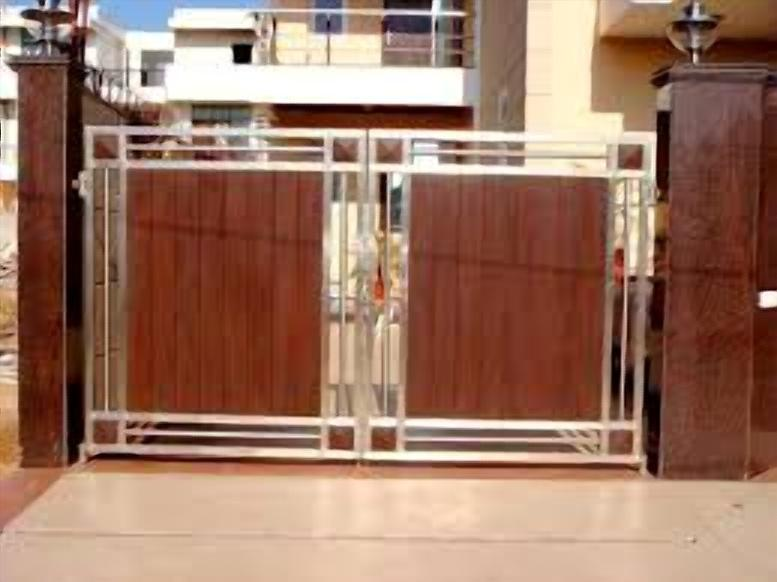Building: (0, 0, 777, 321)
Door: (380, 0, 436, 68)
Gate: (79, 123, 656, 474)
Window-without-grill: (316, 0, 344, 36)
